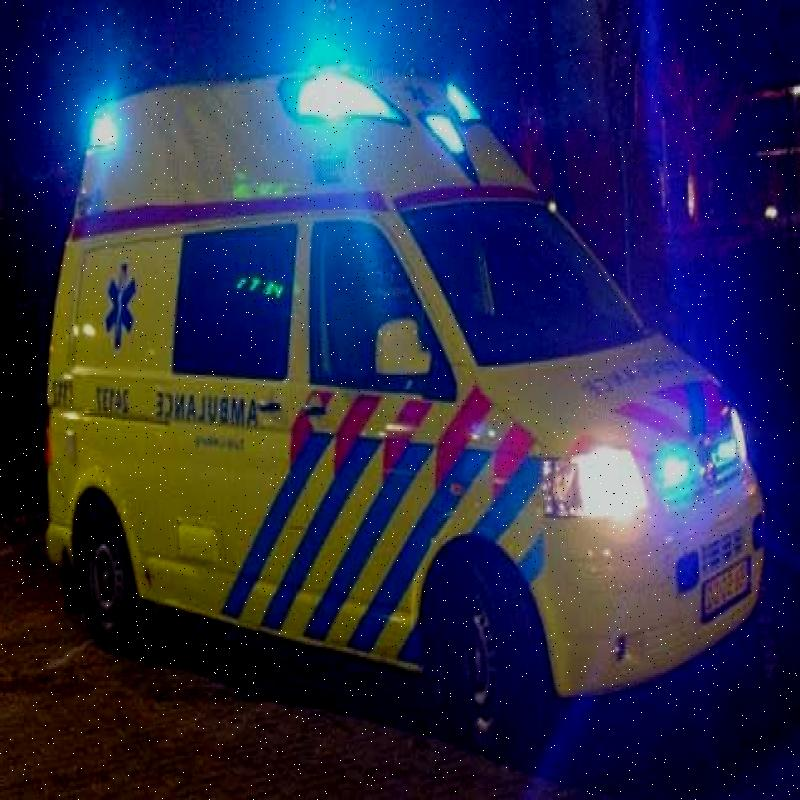AmbulanceSiren: (263, 69, 492, 157)
